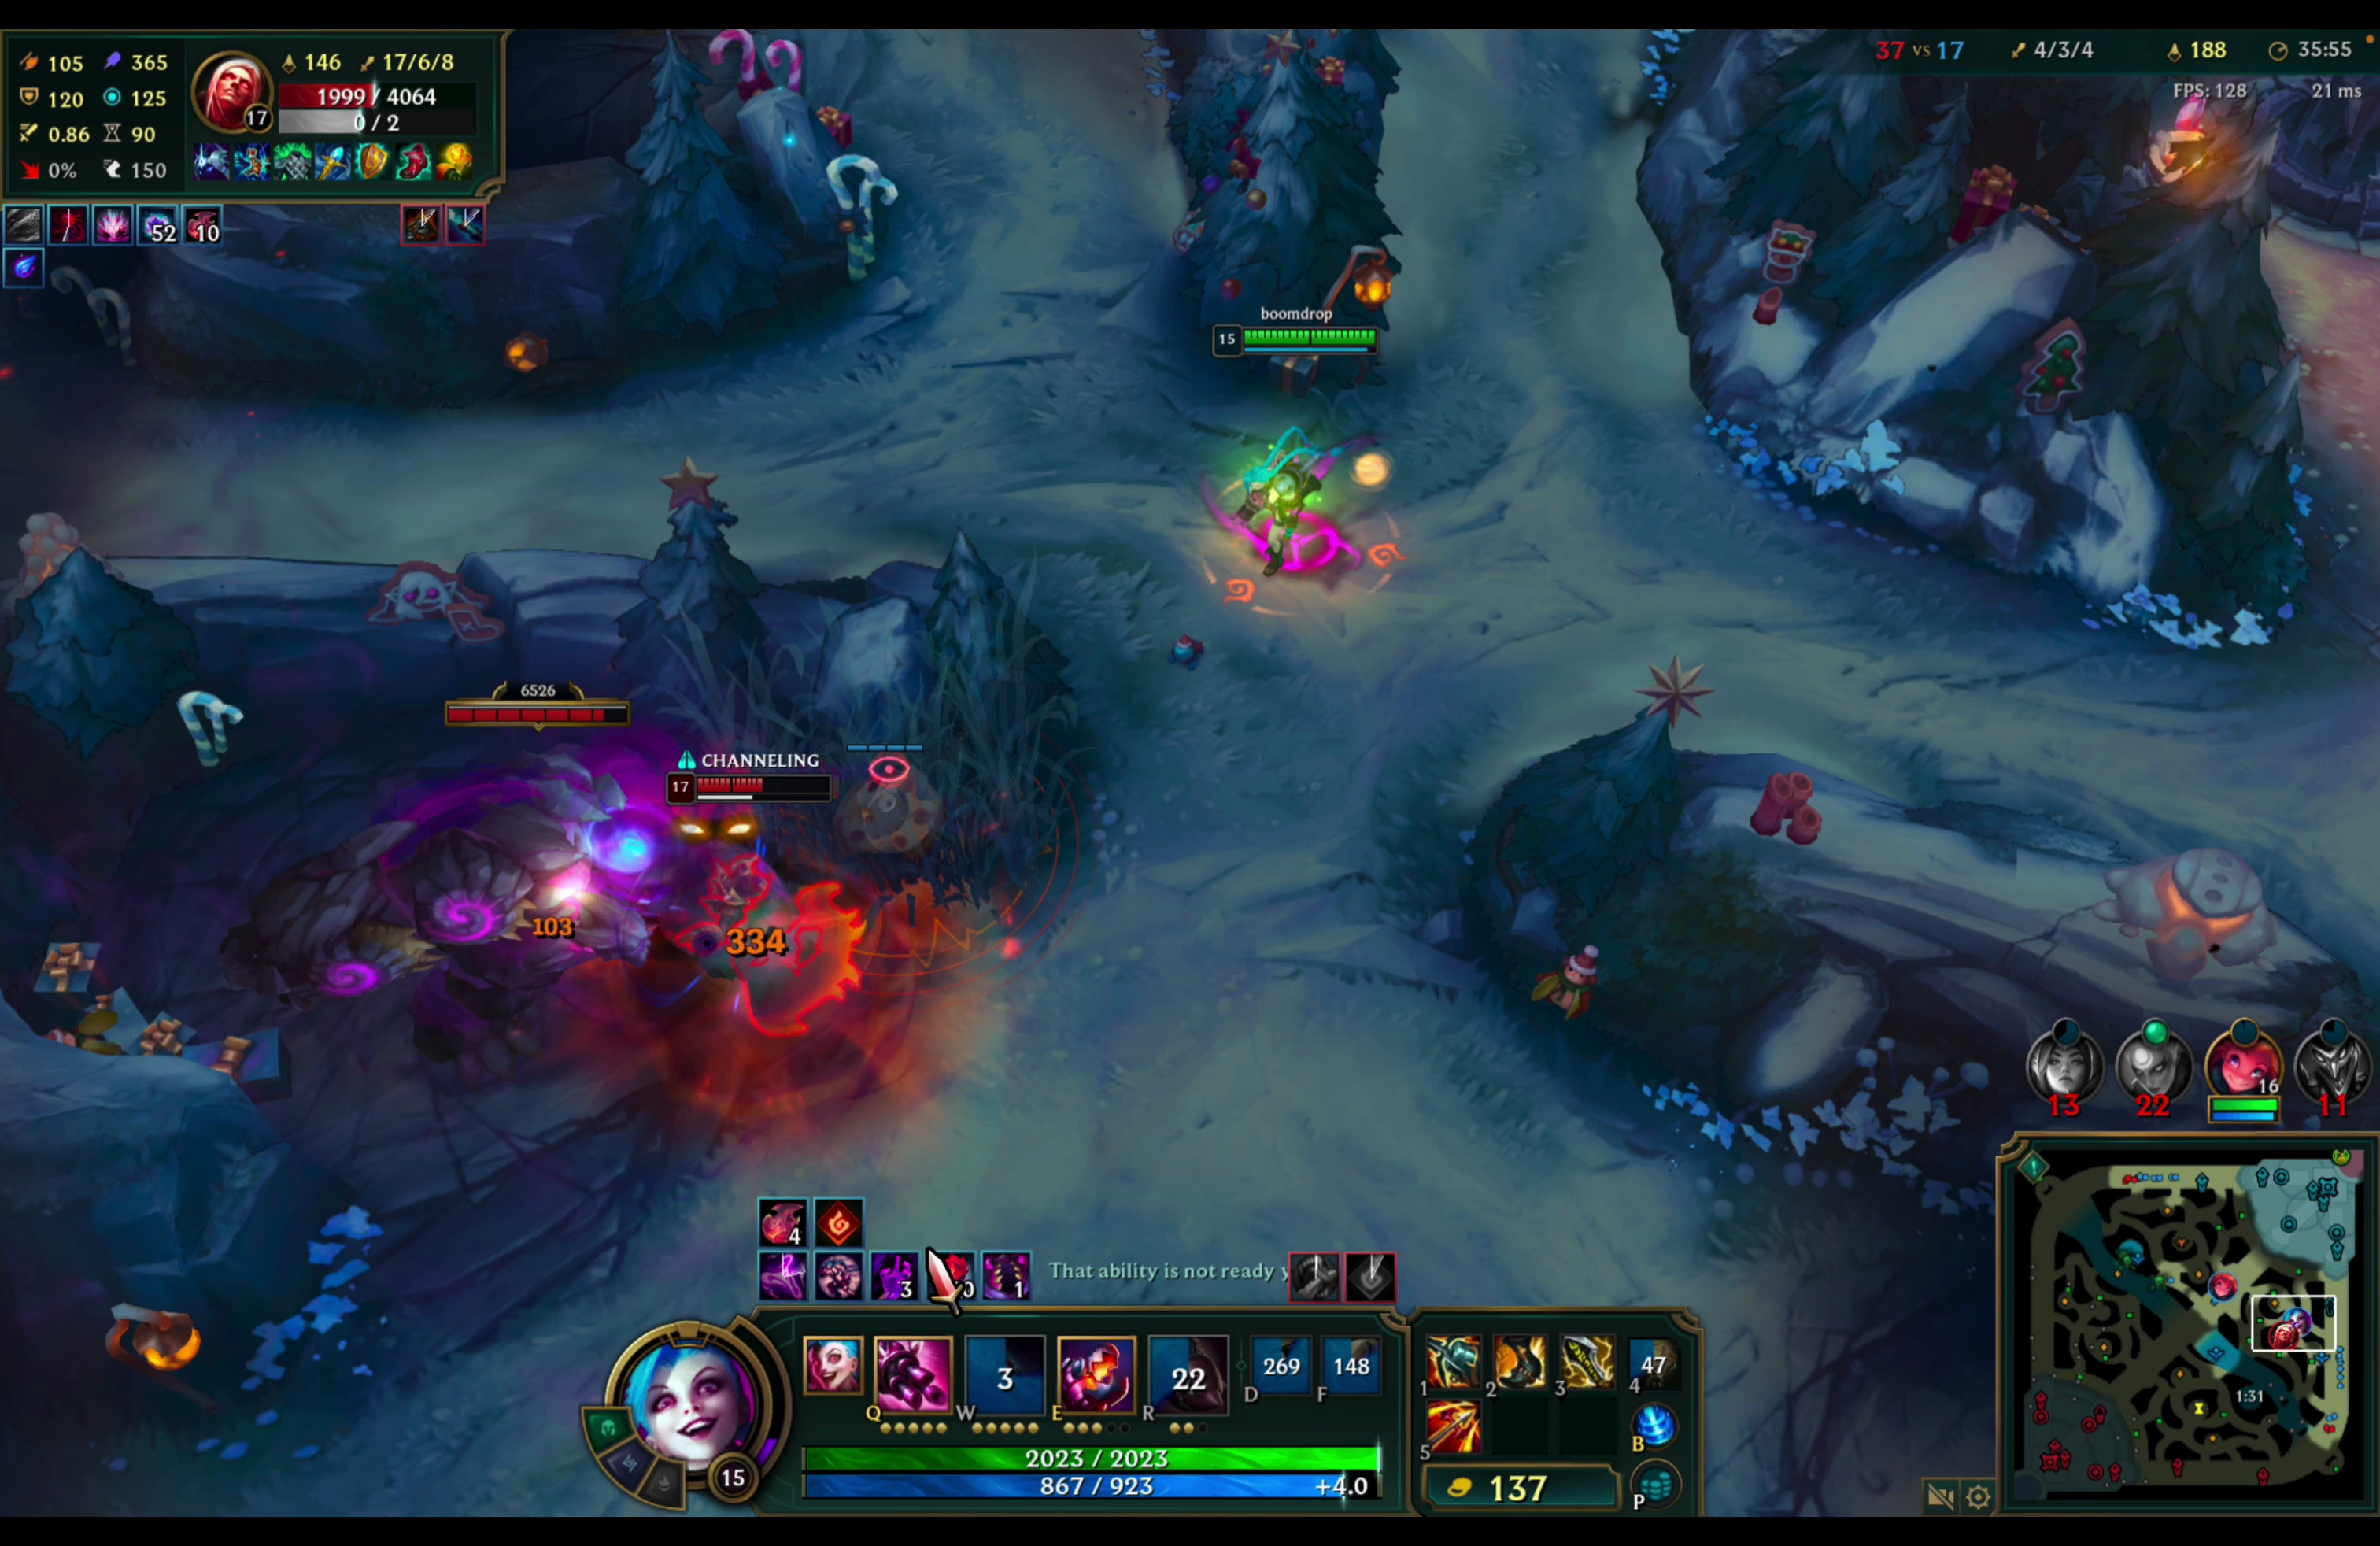JINX_W_IMPACT: (633, 739, 852, 1038)
